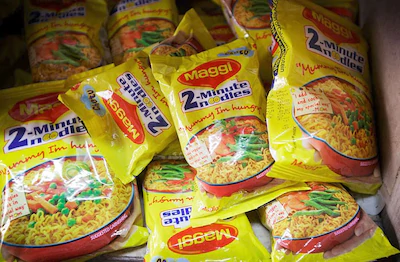maggi: (152, 54, 295, 208)
